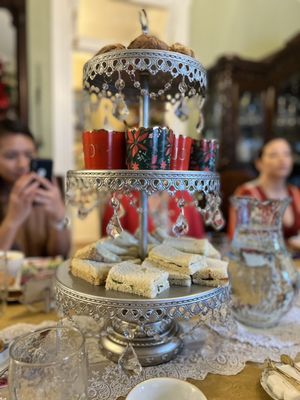pasta: (259, 358, 300, 400)
pizza: (17, 255, 64, 313)
sushi: (124, 377, 208, 400)
